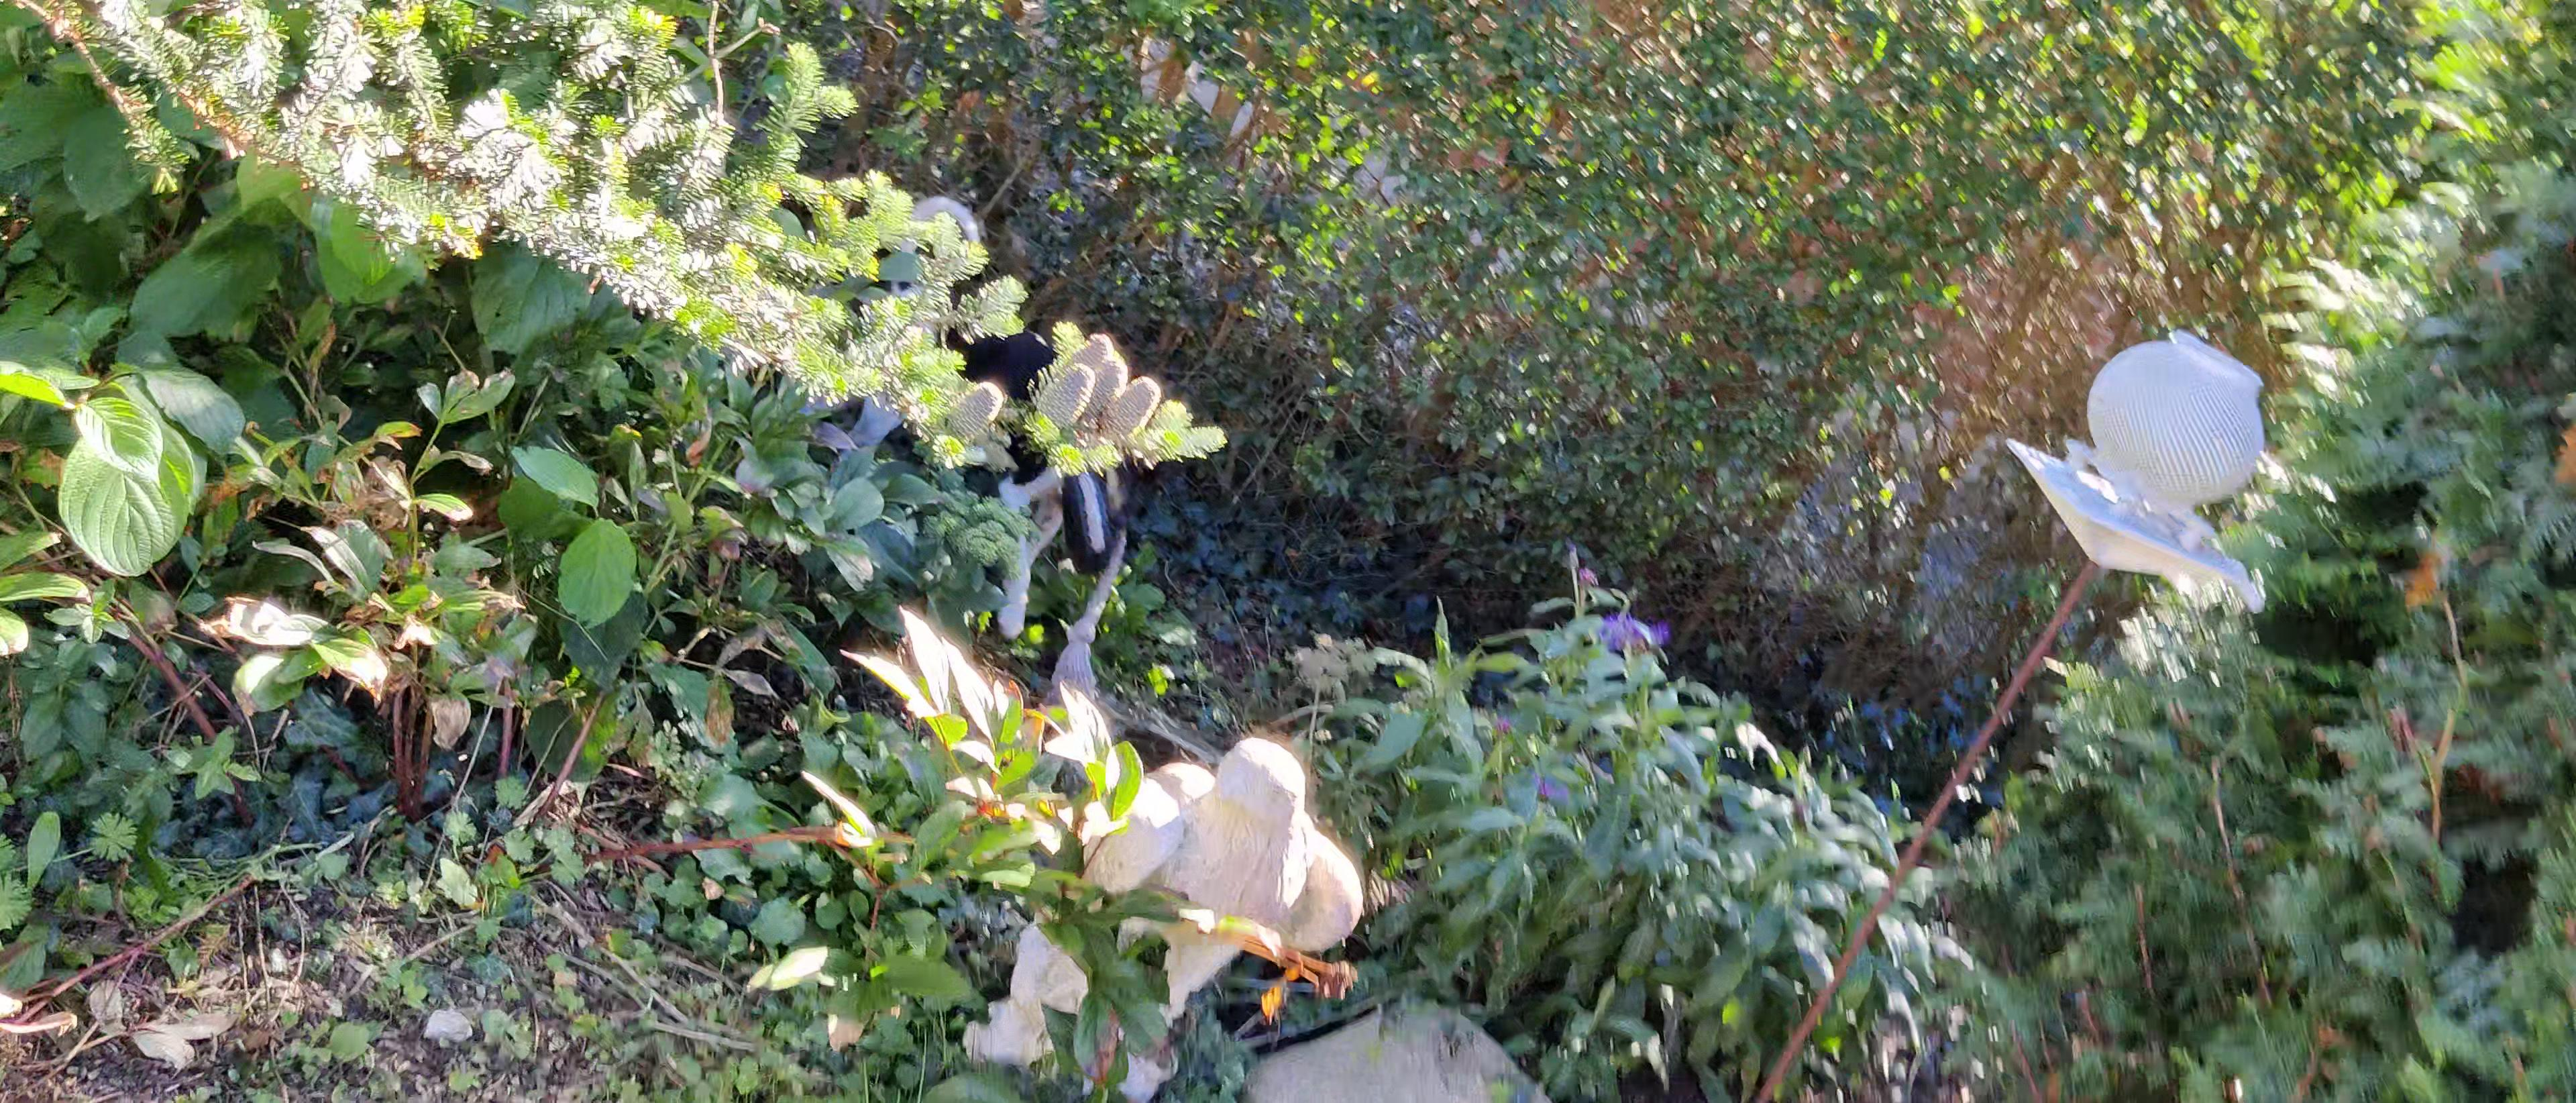Dog: (828, 191, 1152, 643)
